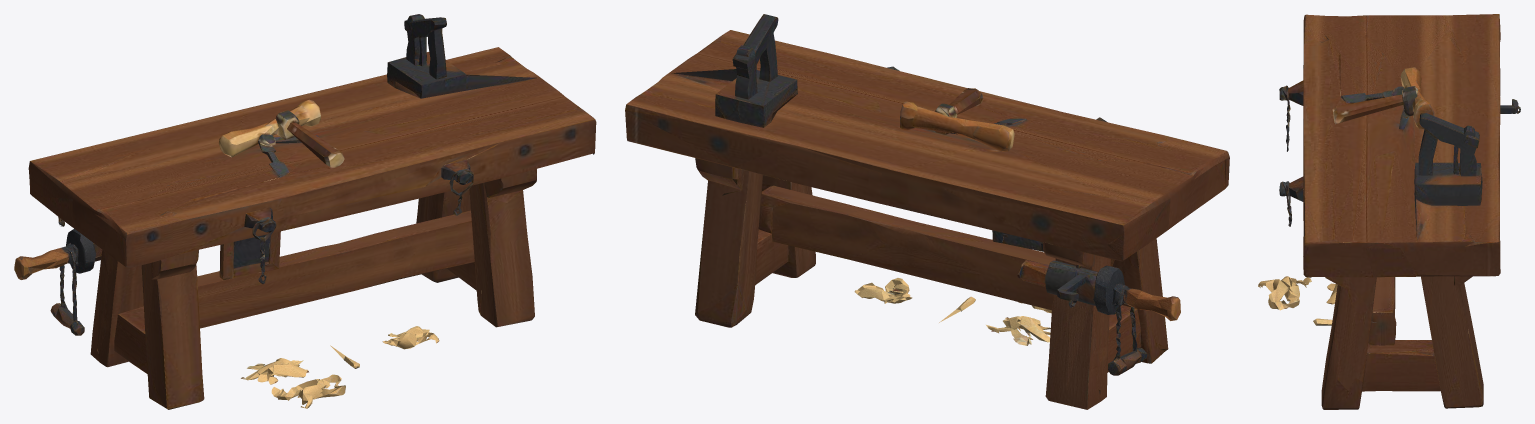
Rendered from workbench.glb.
The picture shows the model from 3 angles, left to right: view 1: azimuth 30°, elevation 25°; view 2: azimuth 150°, elevation 25°; view 3: azimuth 270°, elevation 25°; orthographic projection. The views are drawn at different scales.
Parts seen in each view (by area): view 1: workbench; view 2: workbench; view 3: workbench.
Boxes of the visible parts, <box> form: workbench: <box>14,14,596,409</box>; workbench: <box>625,14,1229,409</box>; workbench: <box>1258,14,1520,409</box>.
Size of the model in its own units: 1.7 by 0.9 by 0.773.
1 material, 1 textured.
